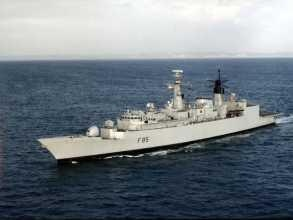warship: (40, 63, 278, 163)
